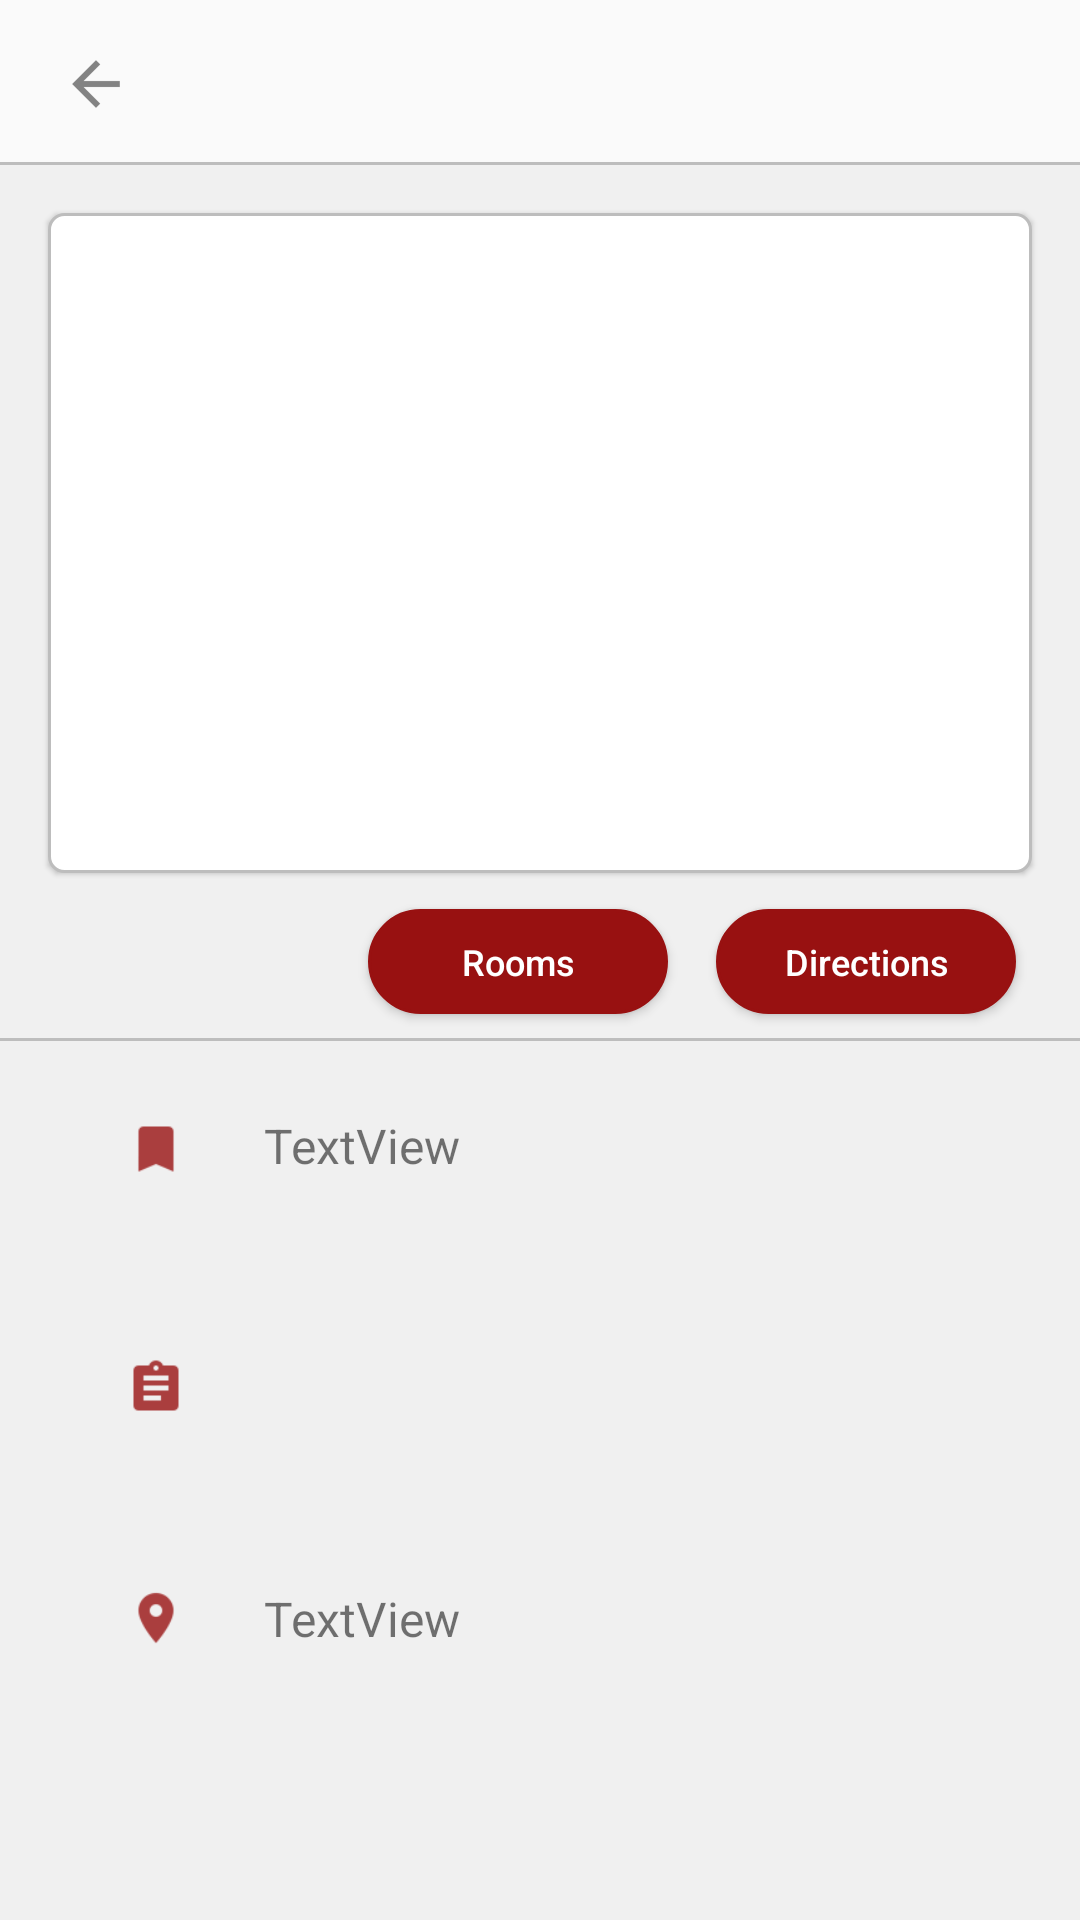

Icon bounding boxes for this 1080px x 1920px phone screenshot, format (x1, y1, x2, y2):
back: (72, 60, 120, 108)
description: (133, 1360, 179, 1411)
location: (138, 1593, 174, 1643)
